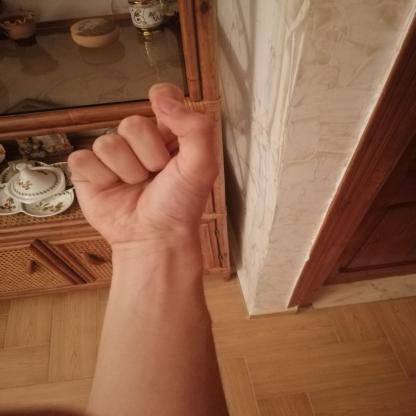FAA: (48, 76, 232, 257)
